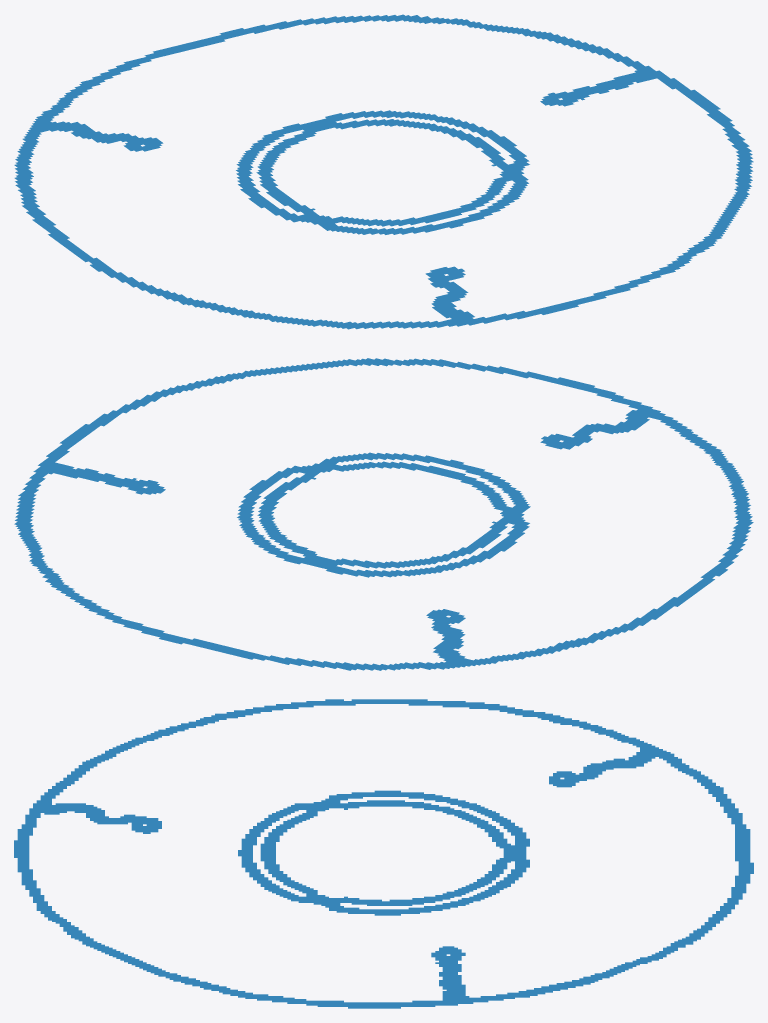
The model's file is Inv-1-PlaceForWaterObjects.fbx.
3 renders of one model, top to bottom at view 1: azimuth 30°, elevation 25°; view 2: azimuth 150°, elevation 25°; view 3: azimuth 270°, elevation 25°, orthographic.
Parts seen in each view (by area): view 1: Inv-1-PlaceForWaterObjects; view 2: Inv-1-PlaceForWaterObjects; view 3: Inv-1-PlaceForWaterObjects.
Boxes of the visible parts, x1=… form: Inv-1-PlaceForWaterObjects: x1=14, y1=14, x2=753, y2=329; Inv-1-PlaceForWaterObjects: x1=14, y1=358, x2=753, y2=670; Inv-1-PlaceForWaterObjects: x1=14, y1=699, x2=753, y2=1008.
Bounding box in the file's own units: 193 × 0 × 195.
